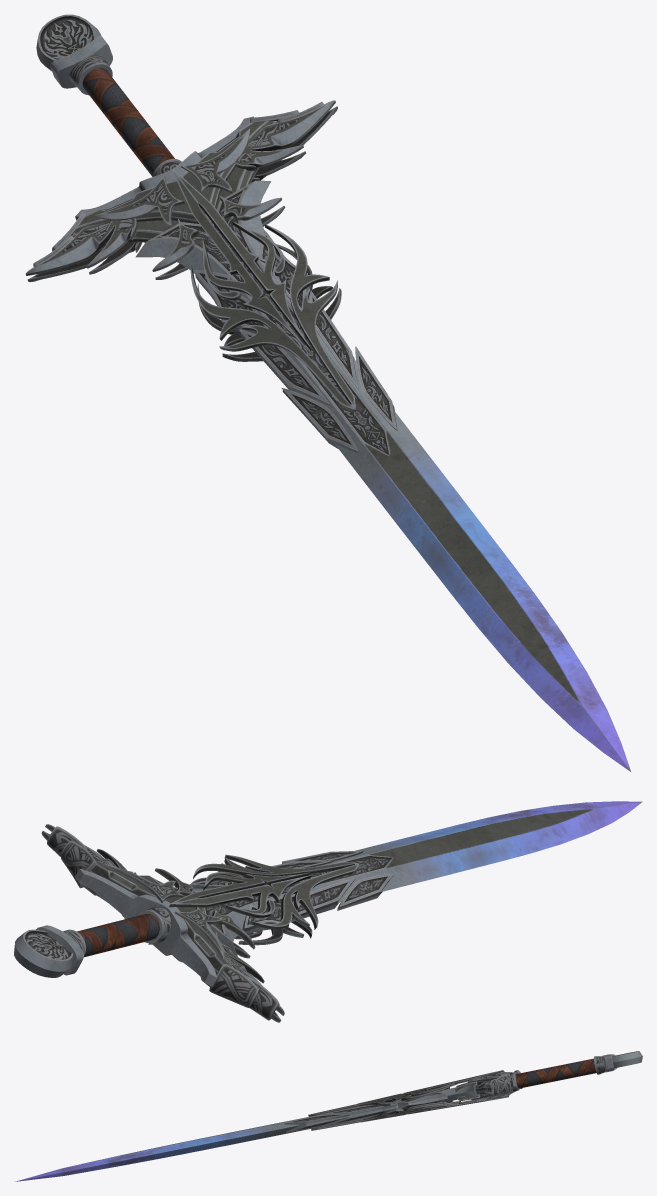
Rendered from Sword.fbx.
The picture shows the model from 3 angles, top to bottom: view 1: azimuth 30°, elevation 25°; view 2: azimuth 150°, elevation 25°; view 3: azimuth 270°, elevation 25°; orthographic projection. The views are drawn at different scales.
Parts seen in each view (by area): view 1: Sword; view 2: Sword; view 3: Sword.
Boxes of the visible parts, left/top/right/bottom form: Sword: left=25, top=14, right=630, bottom=771; Sword: left=14, top=801, right=642, bottom=1022; Sword: left=15, top=1051, right=642, bottom=1181.
Bounding box in the file's own units: 143 × 136 × 537.
